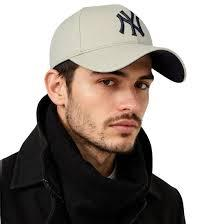cap: (42, 0, 222, 86)
